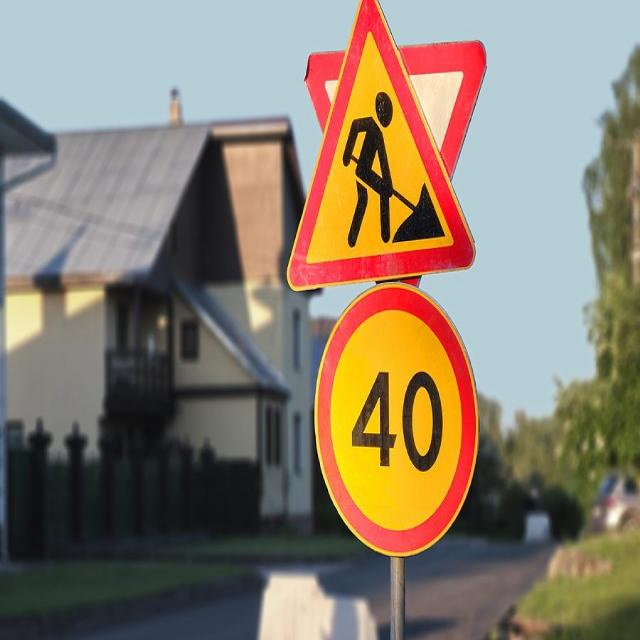roadwork: (270, 0, 482, 288)
speed limit 40: (306, 284, 483, 568)
